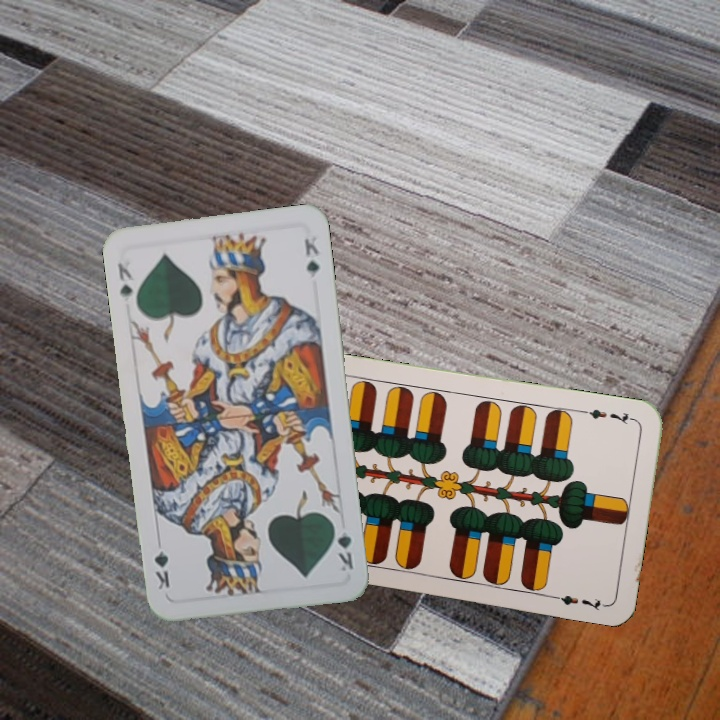E7: (579, 405, 638, 428)
GK: (329, 518, 356, 574), (114, 258, 137, 300)
